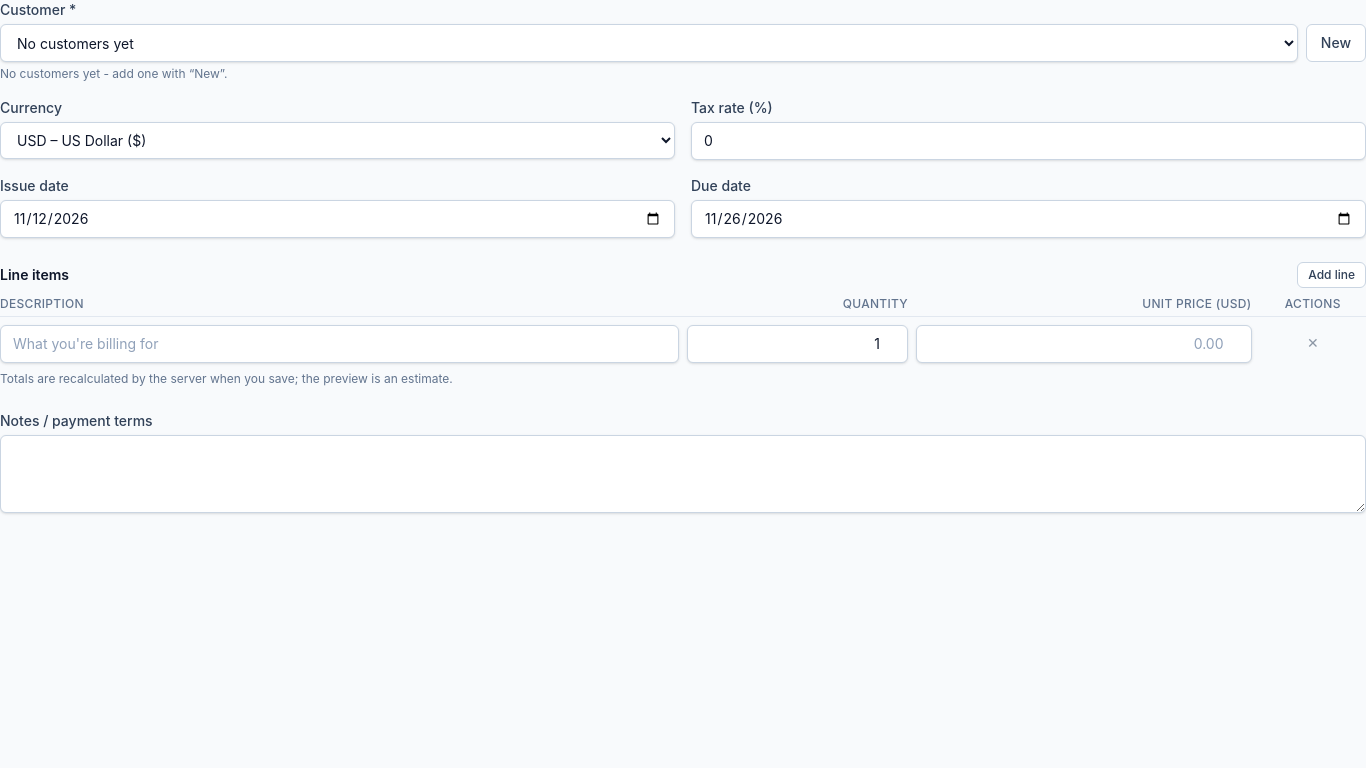
Test: InvoiceEditor › still lists the saved customer after the page is reloaded
Later steps or results of the test are not shown.
Click the button "New" at point(1336, 43), box left=1306, top=24, right=1365, bottom=62
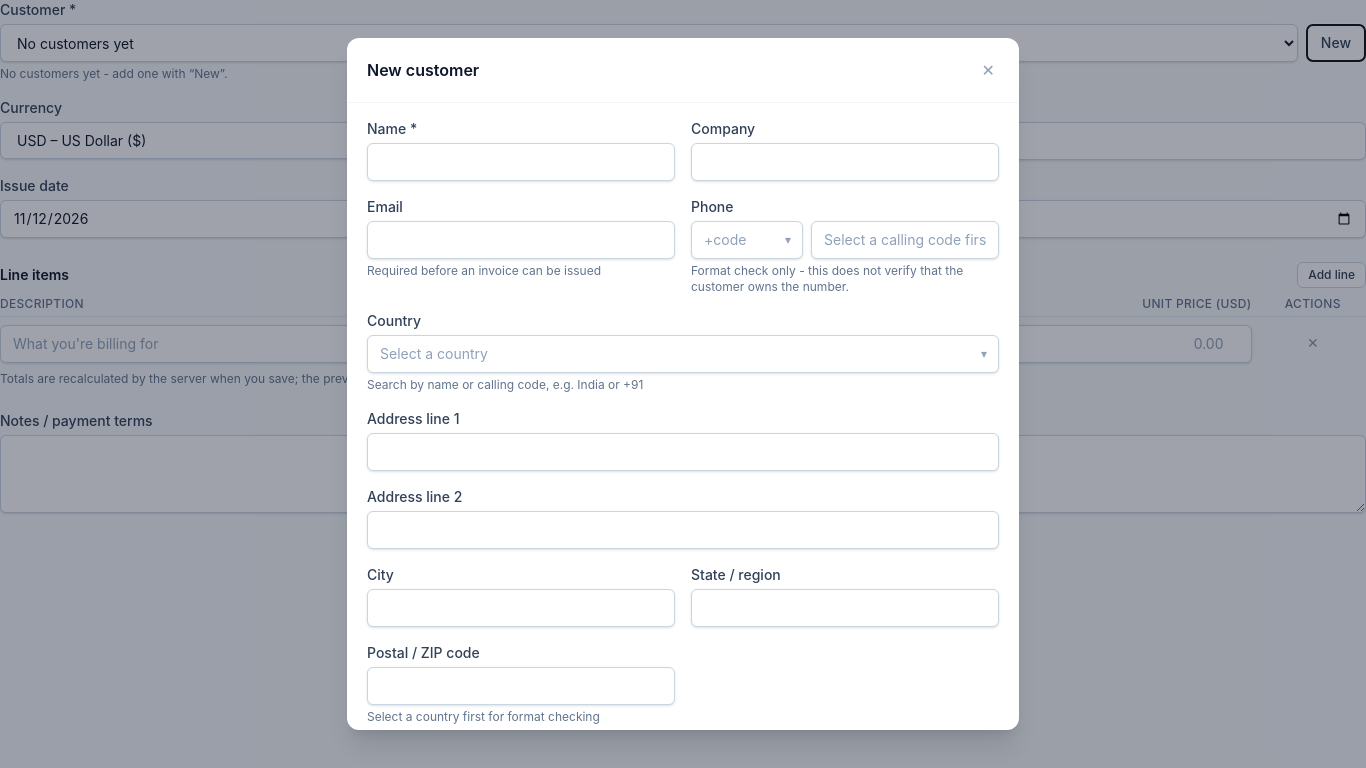
Type "Acme" into the field labelled "Name *" at point(521, 162), box left=367, top=143, right=675, bottom=181
(page scrolled)
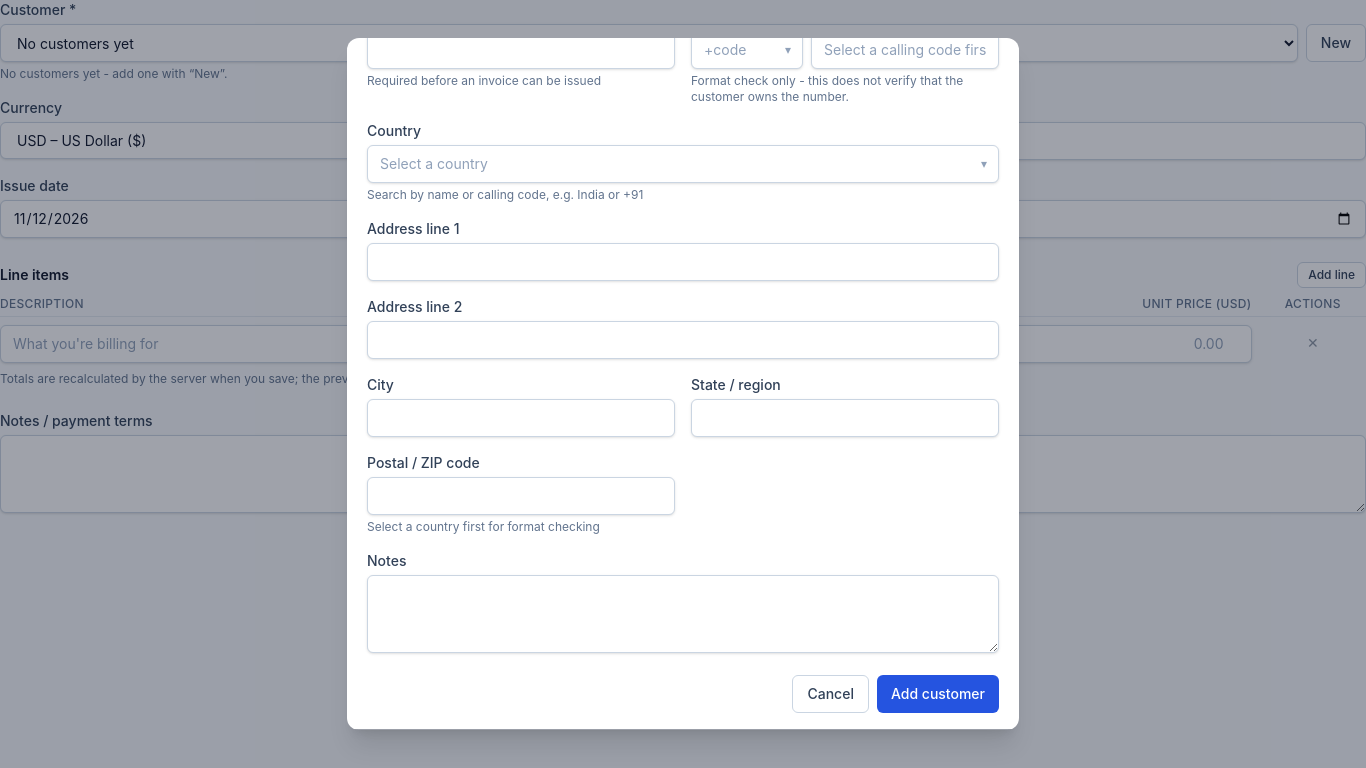
Click the button "Add customer" at point(938, 694), box left=877, top=675, right=999, bottom=713
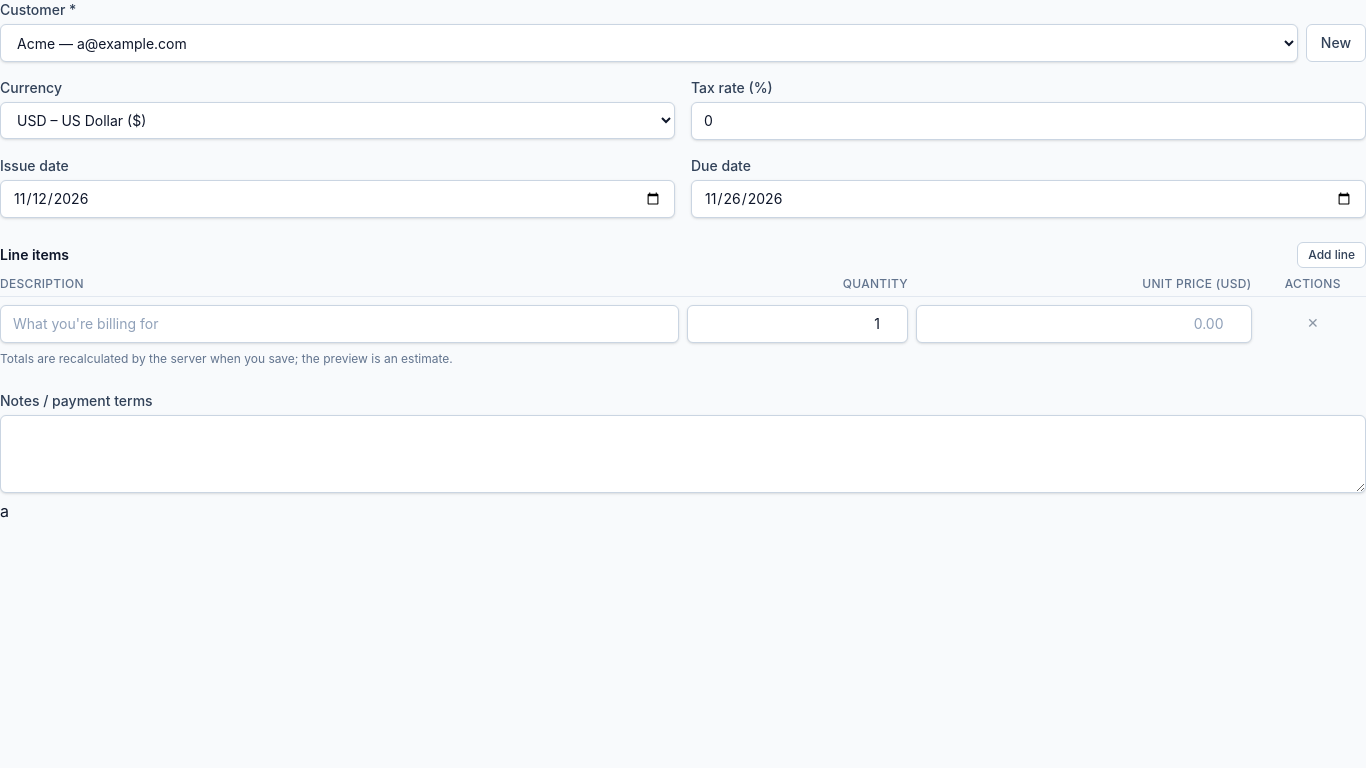
Check: the dialog is gone
